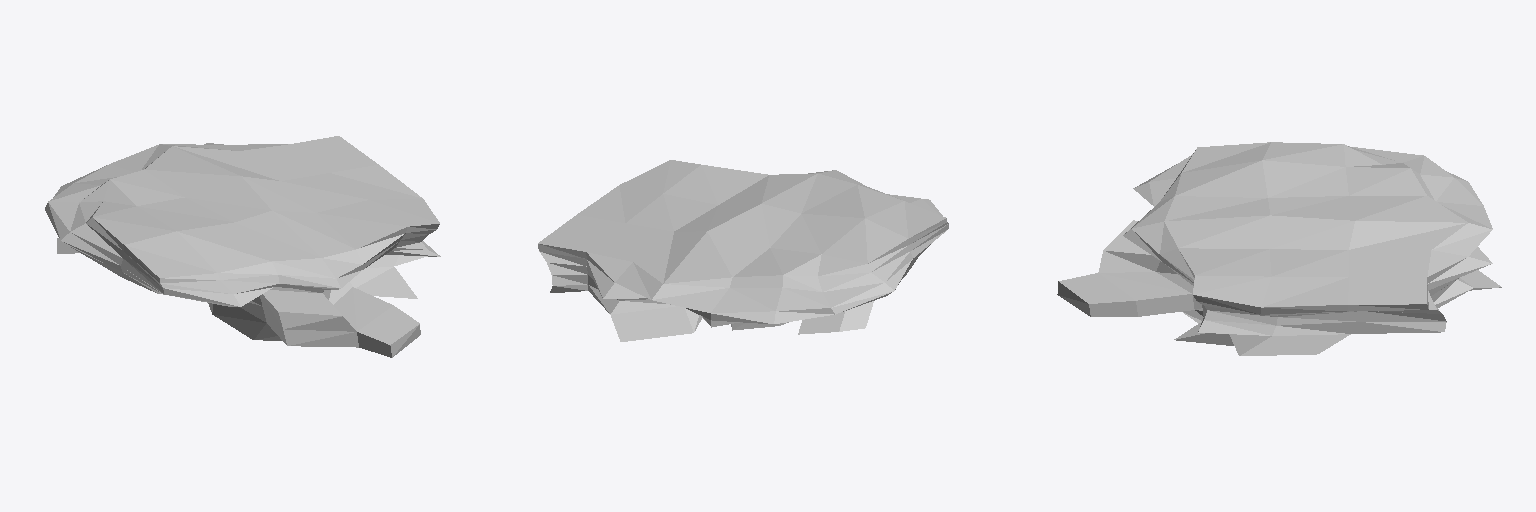
Rendered from FloatingRock.obj.
3 views of the same model, side by side, from view 1: azimuth 30°, elevation 25°; view 2: azimuth 150°, elevation 25°; view 3: azimuth 270°, elevation 25° (orthographic).
Parts seen in each view (by area): view 1: MovingPlatform; view 2: MovingPlatform; view 3: MovingPlatform.
Boxes of the visible parts, x1,y1,x2,y2 form: MovingPlatform: [45, 136, 440, 357]; MovingPlatform: [538, 160, 948, 341]; MovingPlatform: [1057, 142, 1501, 355].
Bounding box in the file's own units: 1003 × 314 × 1201.